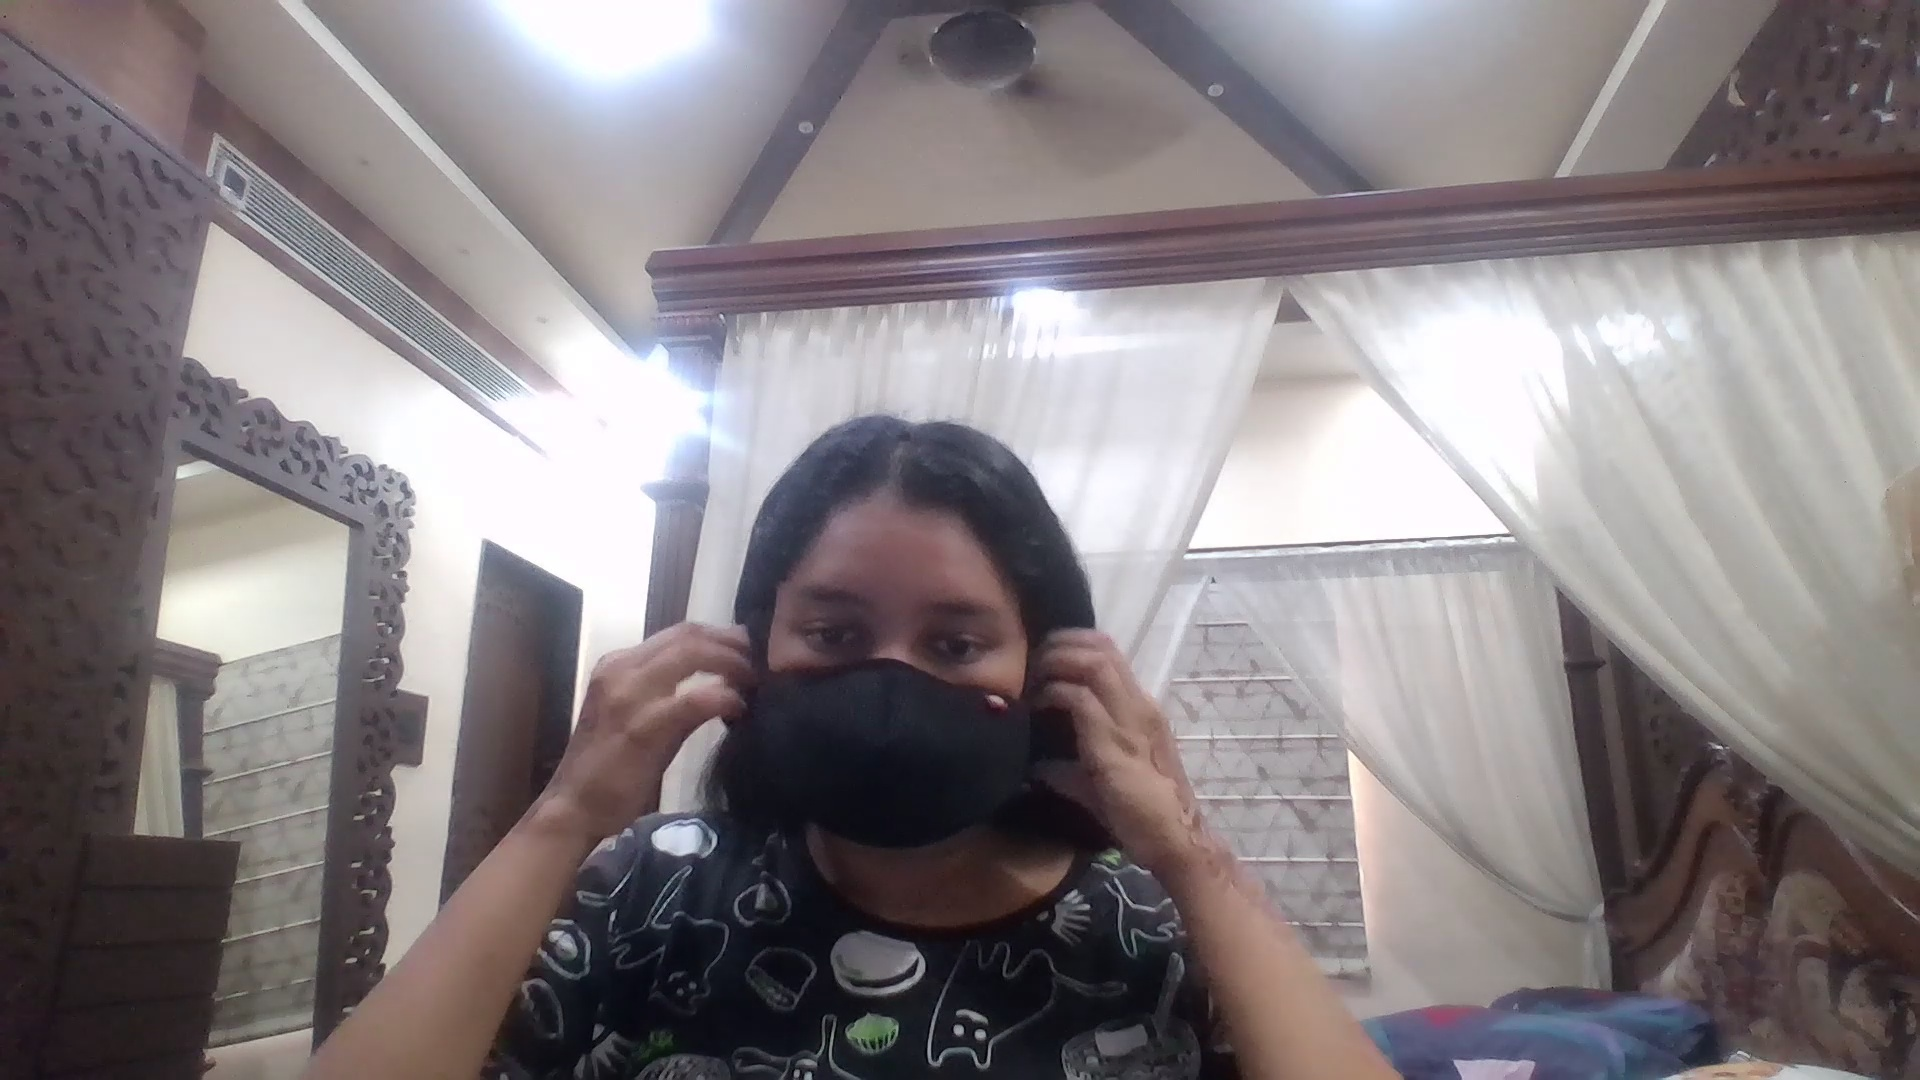Mask: (756, 666, 1026, 855)
